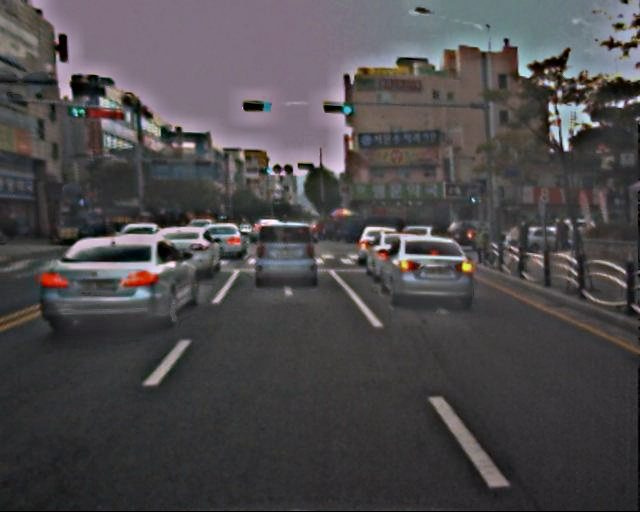person: (473, 225, 491, 268), (552, 216, 568, 254)
